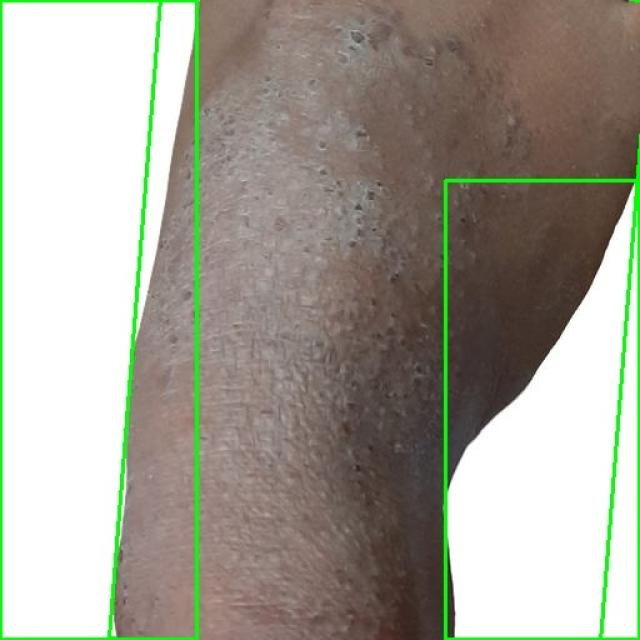Contact Dermatitis: (110, 0, 640, 640), (0, 0, 196, 639), (445, 180, 639, 639)
